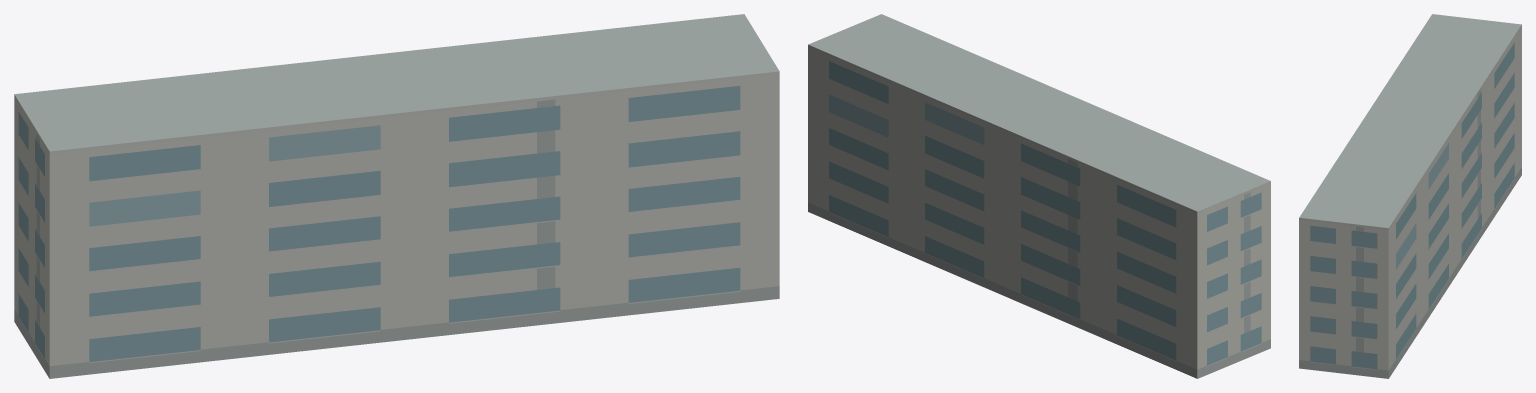
The model's file is residential-5809a1fc-5370-4f67-aa6b-87046ec24b98.glb.
3 views of the same model, side by side, from view 1: azimuth 30°, elevation 25°; view 2: azimuth 150°, elevation 25°; view 3: azimuth 270°, elevation 25° (orthographic). The views are drawn at different scales.
Parts seen in each view (by area): view 1: residential-5809a1fc-5370-4f67-aa6b-87046ec24b98.tmp; view 2: residential-5809a1fc-5370-4f67-aa6b-87046ec24b98.tmp; view 3: residential-5809a1fc-5370-4f67-aa6b-87046ec24b98.tmp.
Boxes of the visible parts, x1,y1,x2,y2 form: residential-5809a1fc-5370-4f67-aa6b-87046ec24b98.tmp: (14, 14, 779, 378); residential-5809a1fc-5370-4f67-aa6b-87046ec24b98.tmp: (808, 14, 1270, 378); residential-5809a1fc-5370-4f67-aa6b-87046ec24b98.tmp: (1299, 14, 1521, 378).
Size of the model in its own units: 48.75 by 16 by 21.43.
